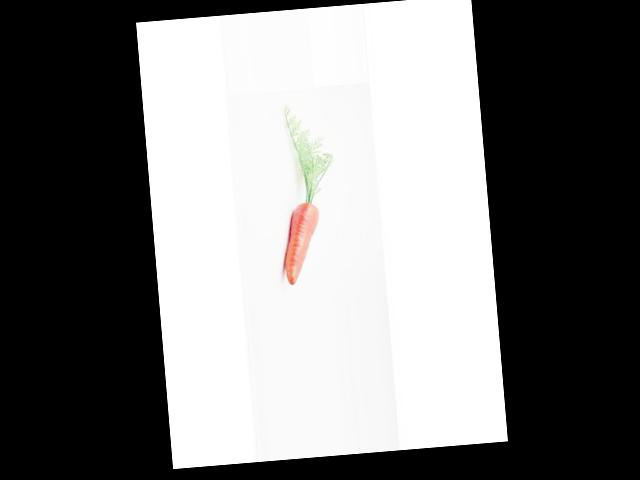carrot: (269, 198, 328, 296)
